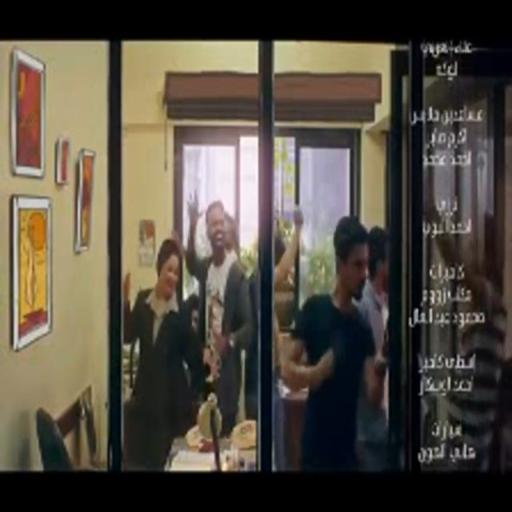nao-violencia: (120, 187, 258, 473), (272, 189, 402, 468)
